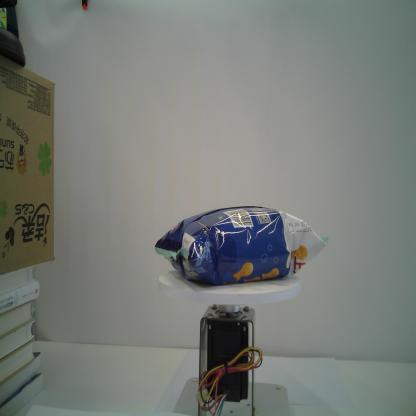Puffed Food: (154, 205, 330, 285)
